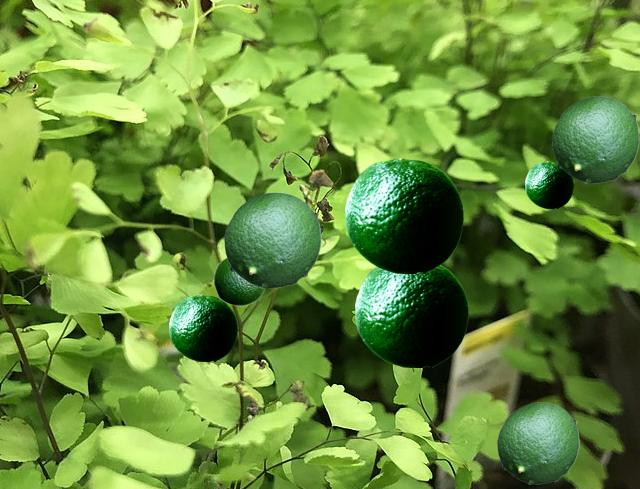calamansi: (345, 157, 462, 272), (355, 265, 467, 366), (224, 192, 320, 287), (552, 96, 638, 182), (497, 402, 578, 483), (169, 294, 236, 360), (213, 257, 265, 305), (525, 161, 572, 207)
